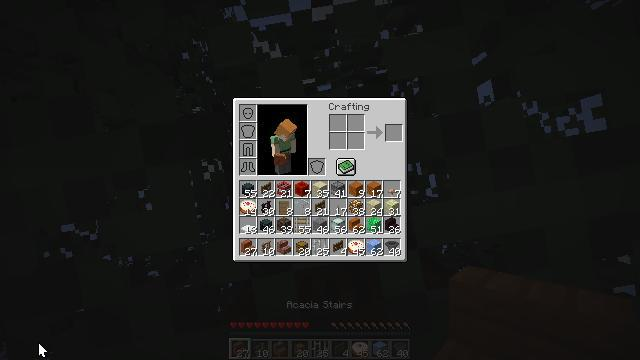cursor: (342, 38, 358, 48)
